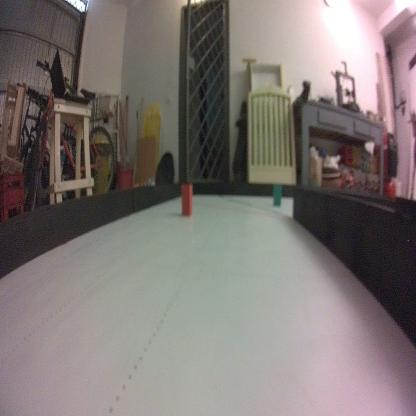green: (272, 180, 282, 206)
red: (179, 183, 194, 219)
